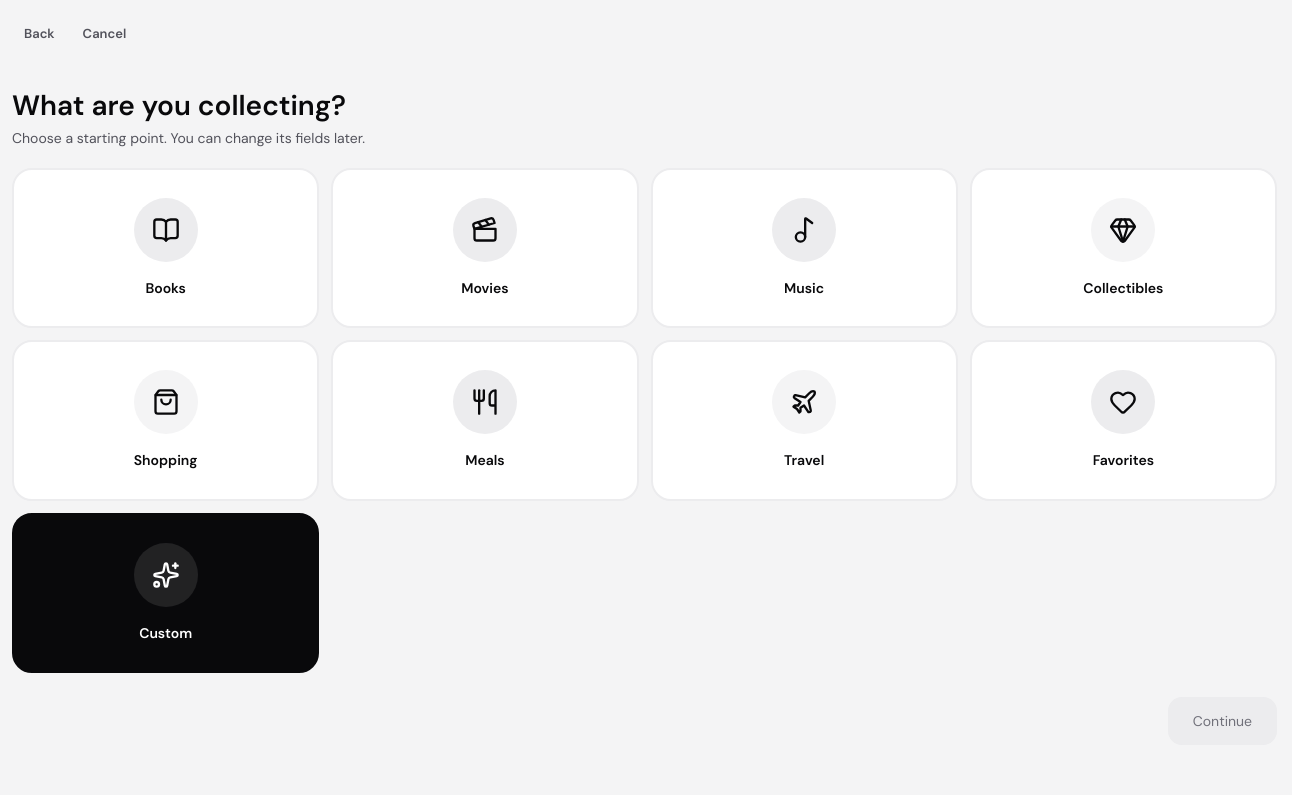
Collection wizard › keeps recoverable server errors visible and prevents repeat submission
Click the button with aria-label "Custom preset": {"x": 166, "y": 593} [12,513,319,673]
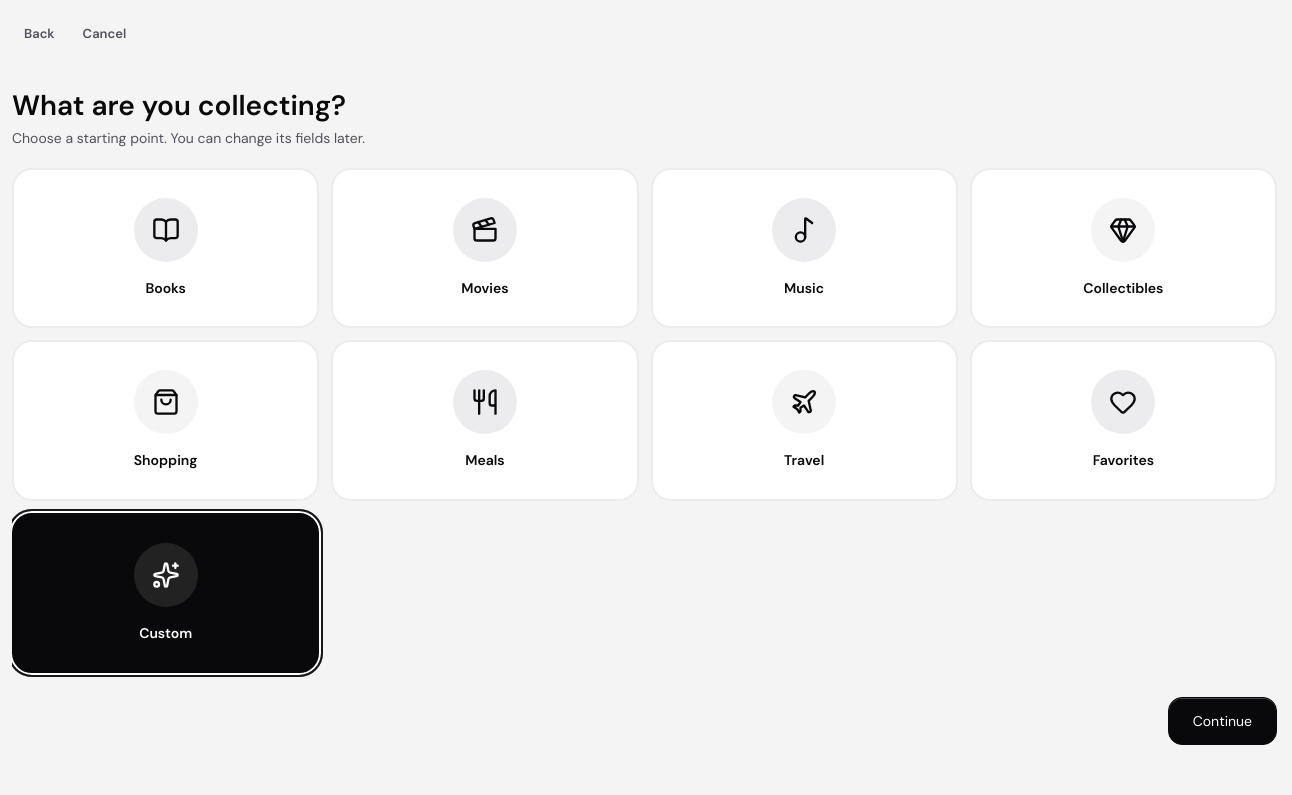
Click the button "Continue": {"x": 1222, "y": 721} [1168,697,1277,745]
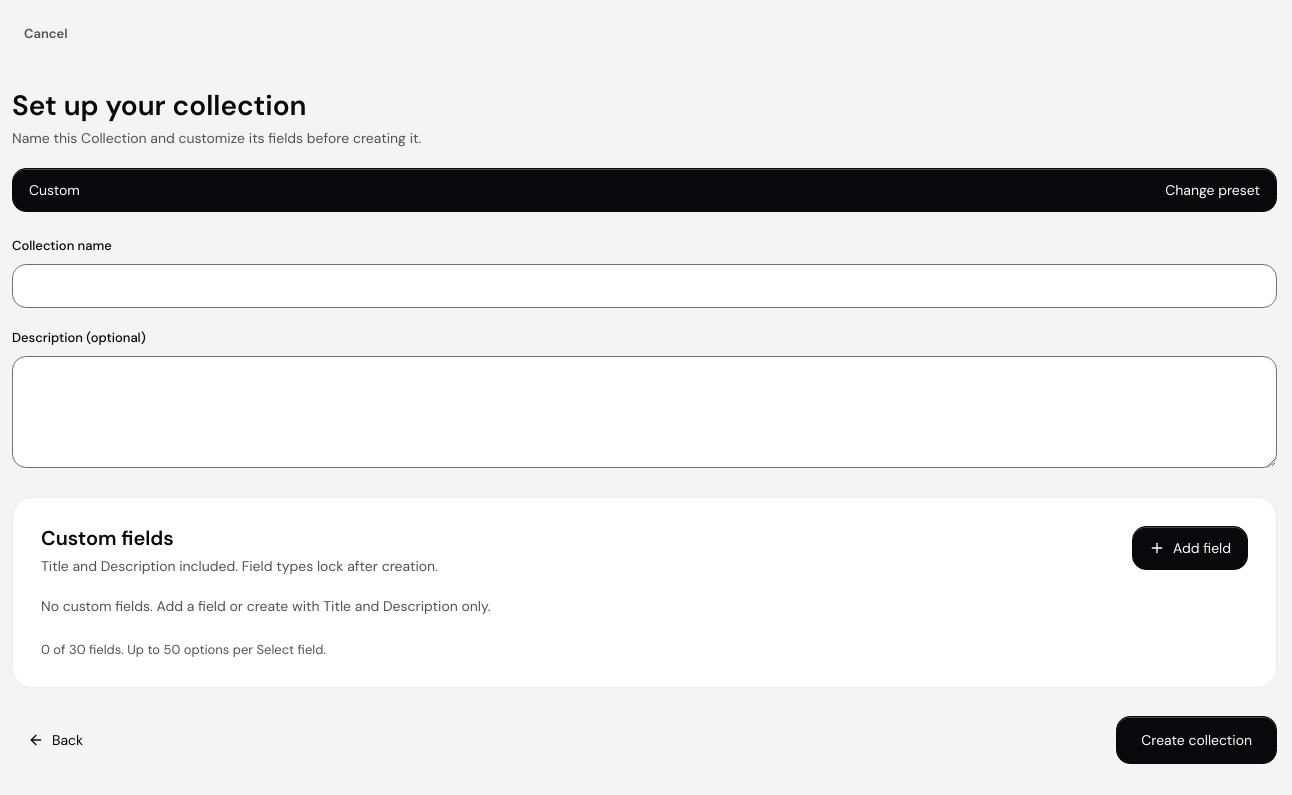
In the field labelled "Collection name": {"x": 644, "y": 286} [12,264,1277,308], type "Small joys"
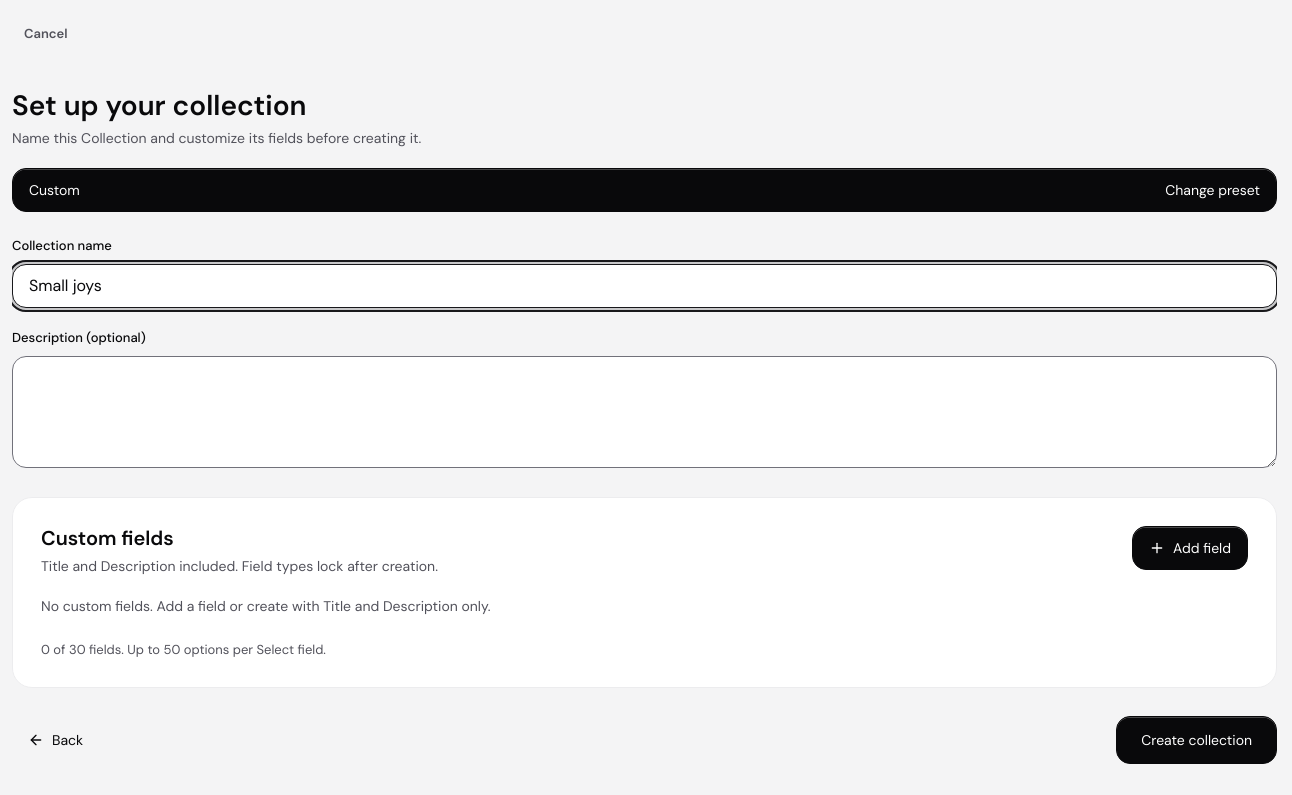
Click the button "Create collection": {"x": 1197, "y": 740} [1116,716,1277,764]
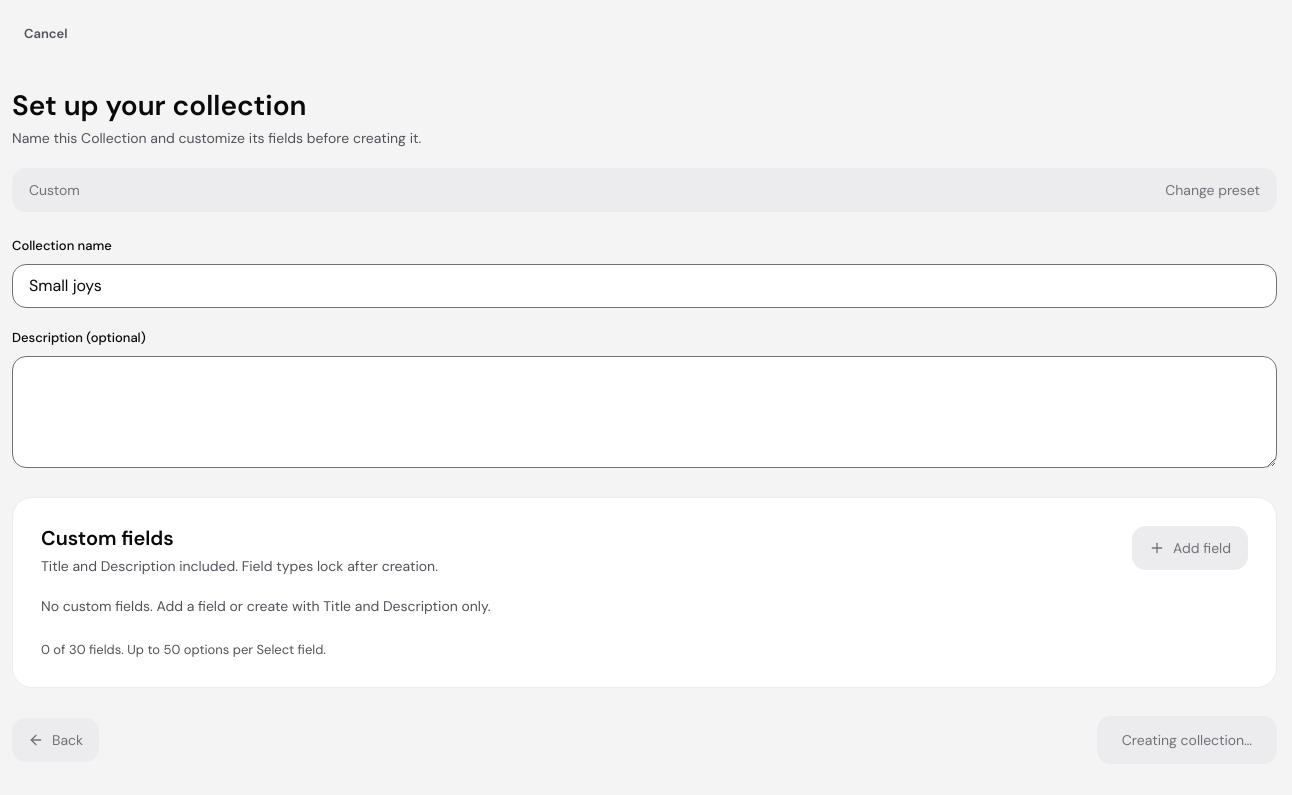
Now the button "Creating collection…" is disabled
Click the button "Creating collection…": {"x": 1187, "y": 740} [1097,716,1277,764]
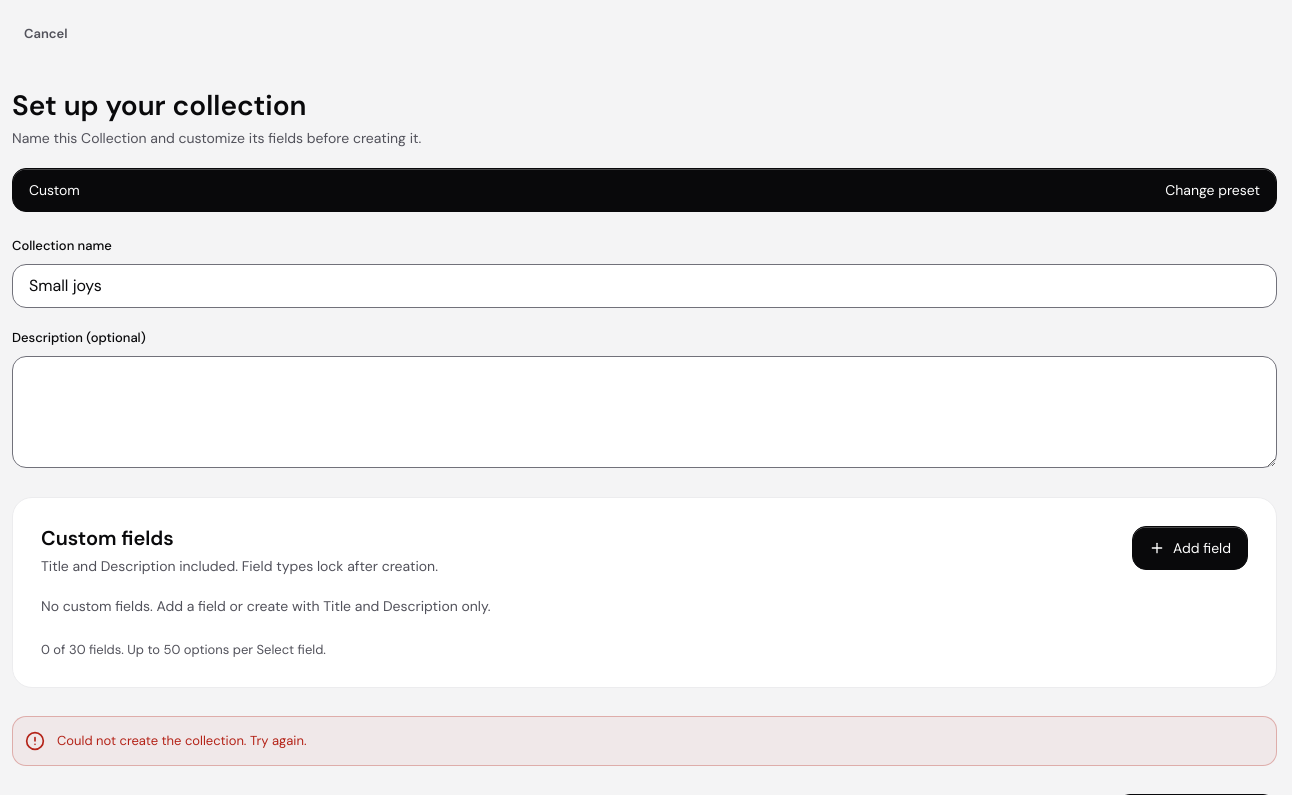
Now the message shows "Could not create the collection", box [57,732,306,749]
